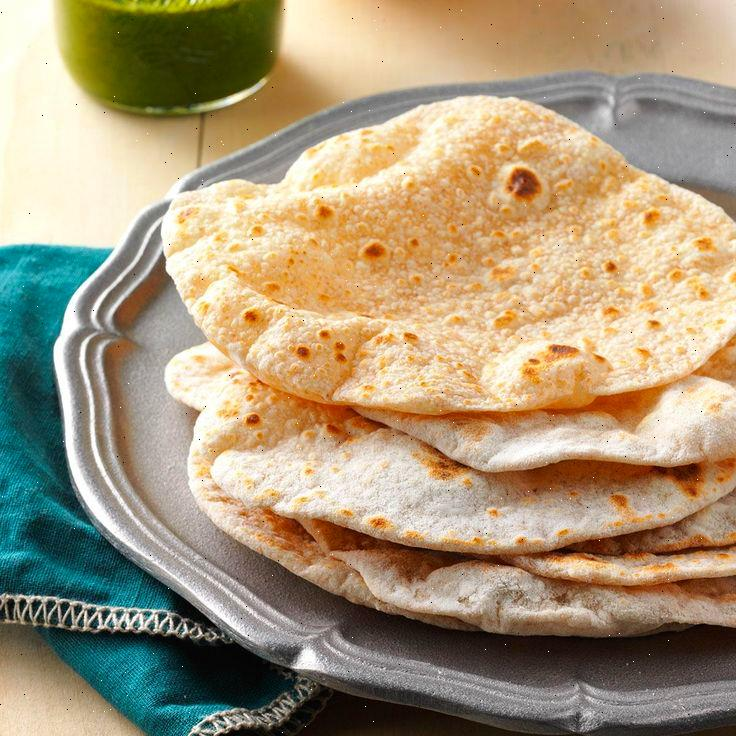roti phulka: (163, 119, 736, 638)
